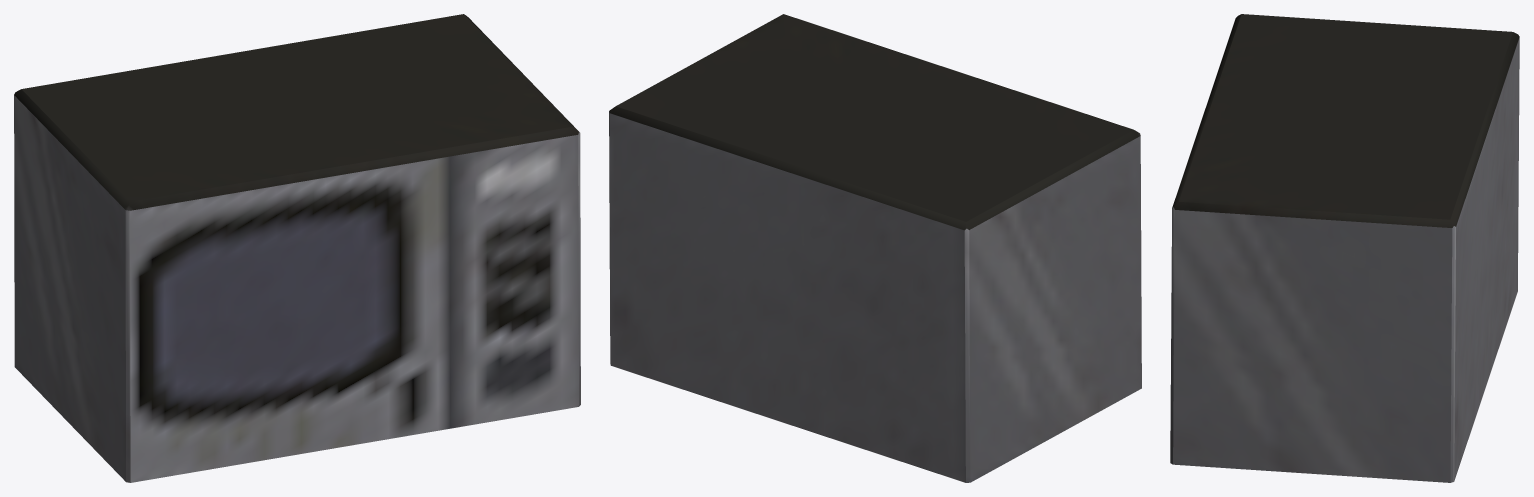
File: PA_Microwave2.fbx
The picture shows the model from 3 angles, left to right: view 1: azimuth 30°, elevation 25°; view 2: azimuth 150°, elevation 25°; view 3: azimuth 270°, elevation 25°; orthographic projection. The views are drawn at different scales.
Parts seen in each view (by area): view 1: TV; view 2: TV; view 3: TV.
Part boxes in pixels (left/top/right/bottom): TV: left=14, top=14, right=580, bottom=482; TV: left=609, top=14, right=1141, bottom=482; TV: left=1170, top=14, right=1519, bottom=482.
Size of the model in its own units: 0.512 by 0.2991 by 0.3608.
